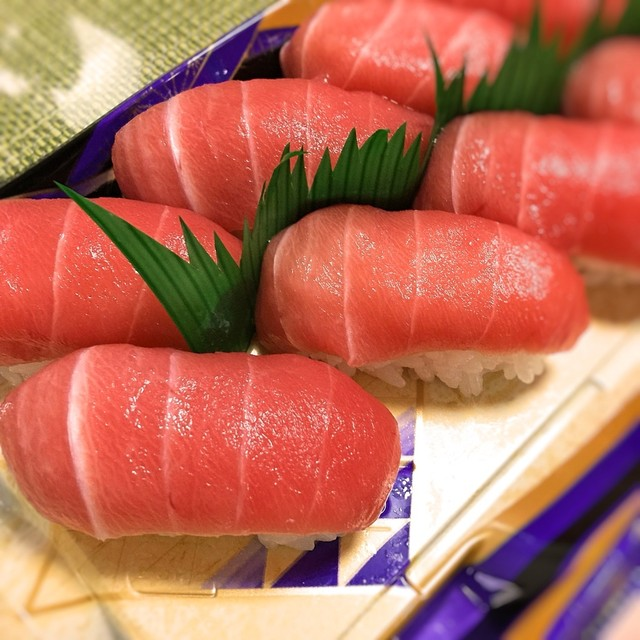medium_fatty_tuna: (1, 345, 401, 535), (244, 203, 590, 391), (100, 77, 441, 230), (1, 196, 242, 343), (423, 108, 640, 259), (279, 3, 541, 114)
